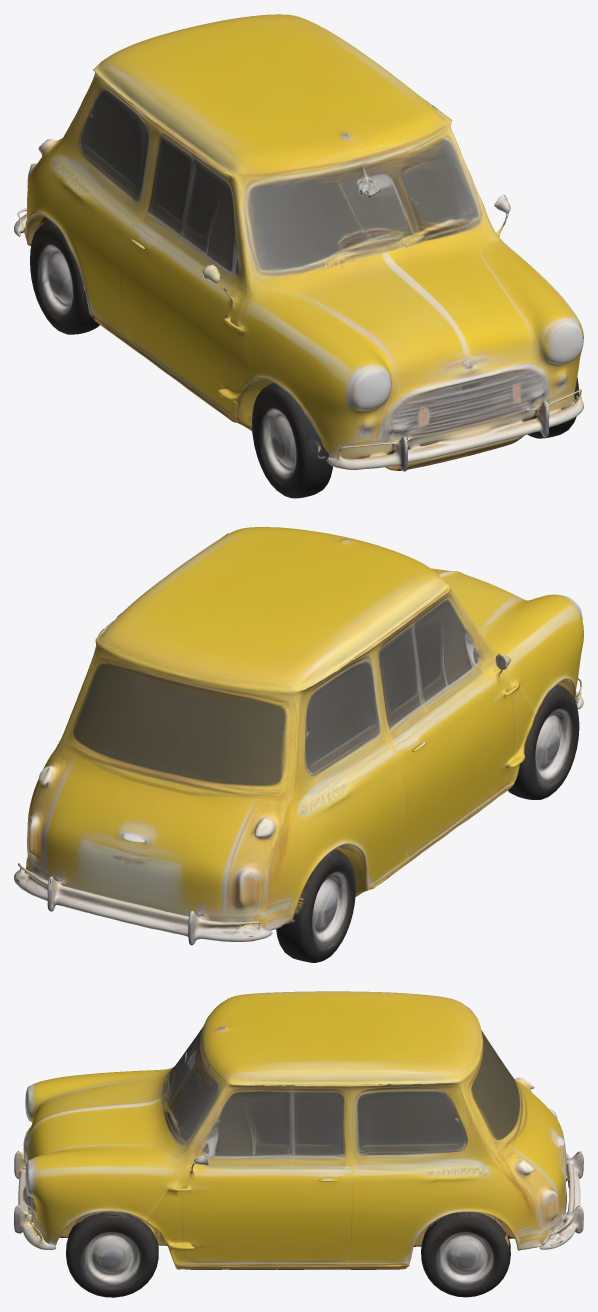
File: yellow_mini_car.glb
3 renders of one model, top to bottom at view 1: azimuth 30°, elevation 25°; view 2: azimuth 150°, elevation 25°; view 3: azimuth 270°, elevation 25°, orthographic. The views are drawn at different scales.
Visible parts, largest first — view 1: model; view 2: model; view 3: model.
Boxes of the visible parts, x1,y1,x2,y2 form: model: (14,14,583,498); model: (14,527,583,962); model: (14,991,583,1297).
Size of the model in its own units: 0.9299 by 0.8113 by 1.9.
Materials: 1 (1 with a texture image).
